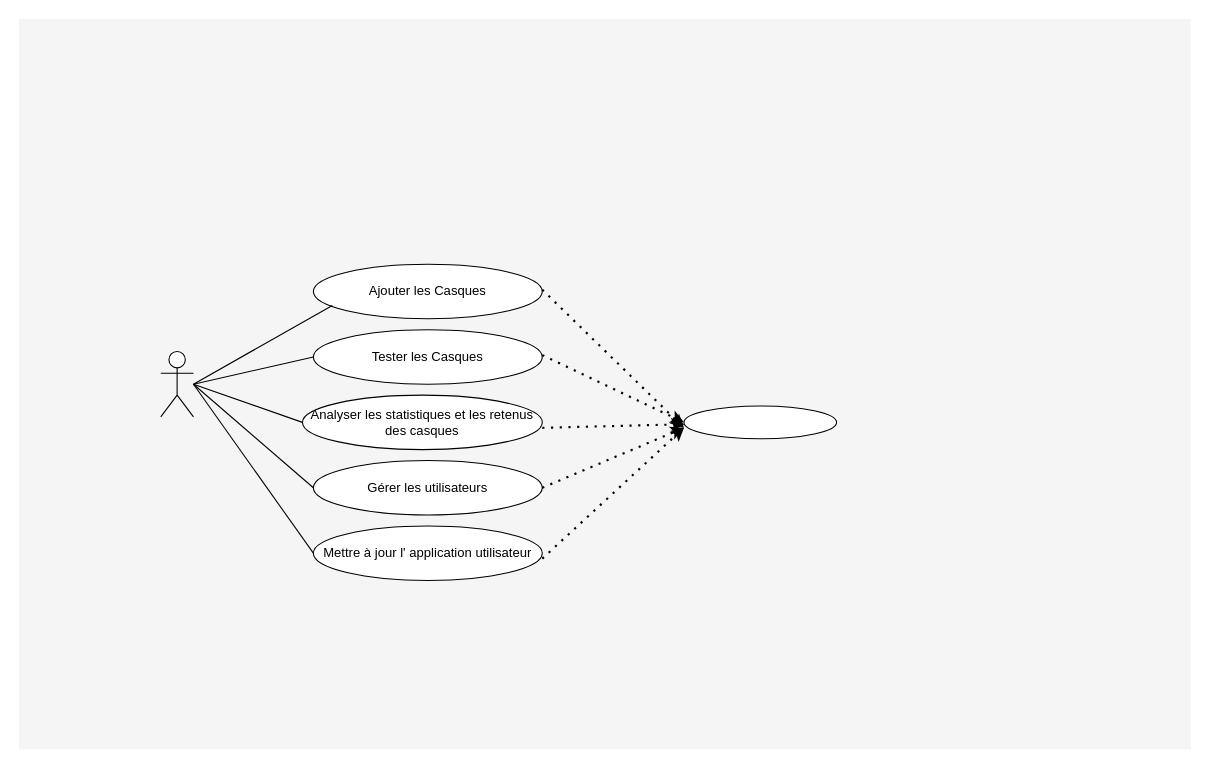
Some shapes in this 1209 by 767 pixel diagram are drawn without their labels. The shapes that lost their labels are listed below. From the top down, each one's centre as x and y in pixels, then its label:
At point (176, 383): "Administarteur".
At point (760, 422): "S'authenitifier".
